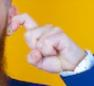anticlockwise: (10, 12, 79, 74)
